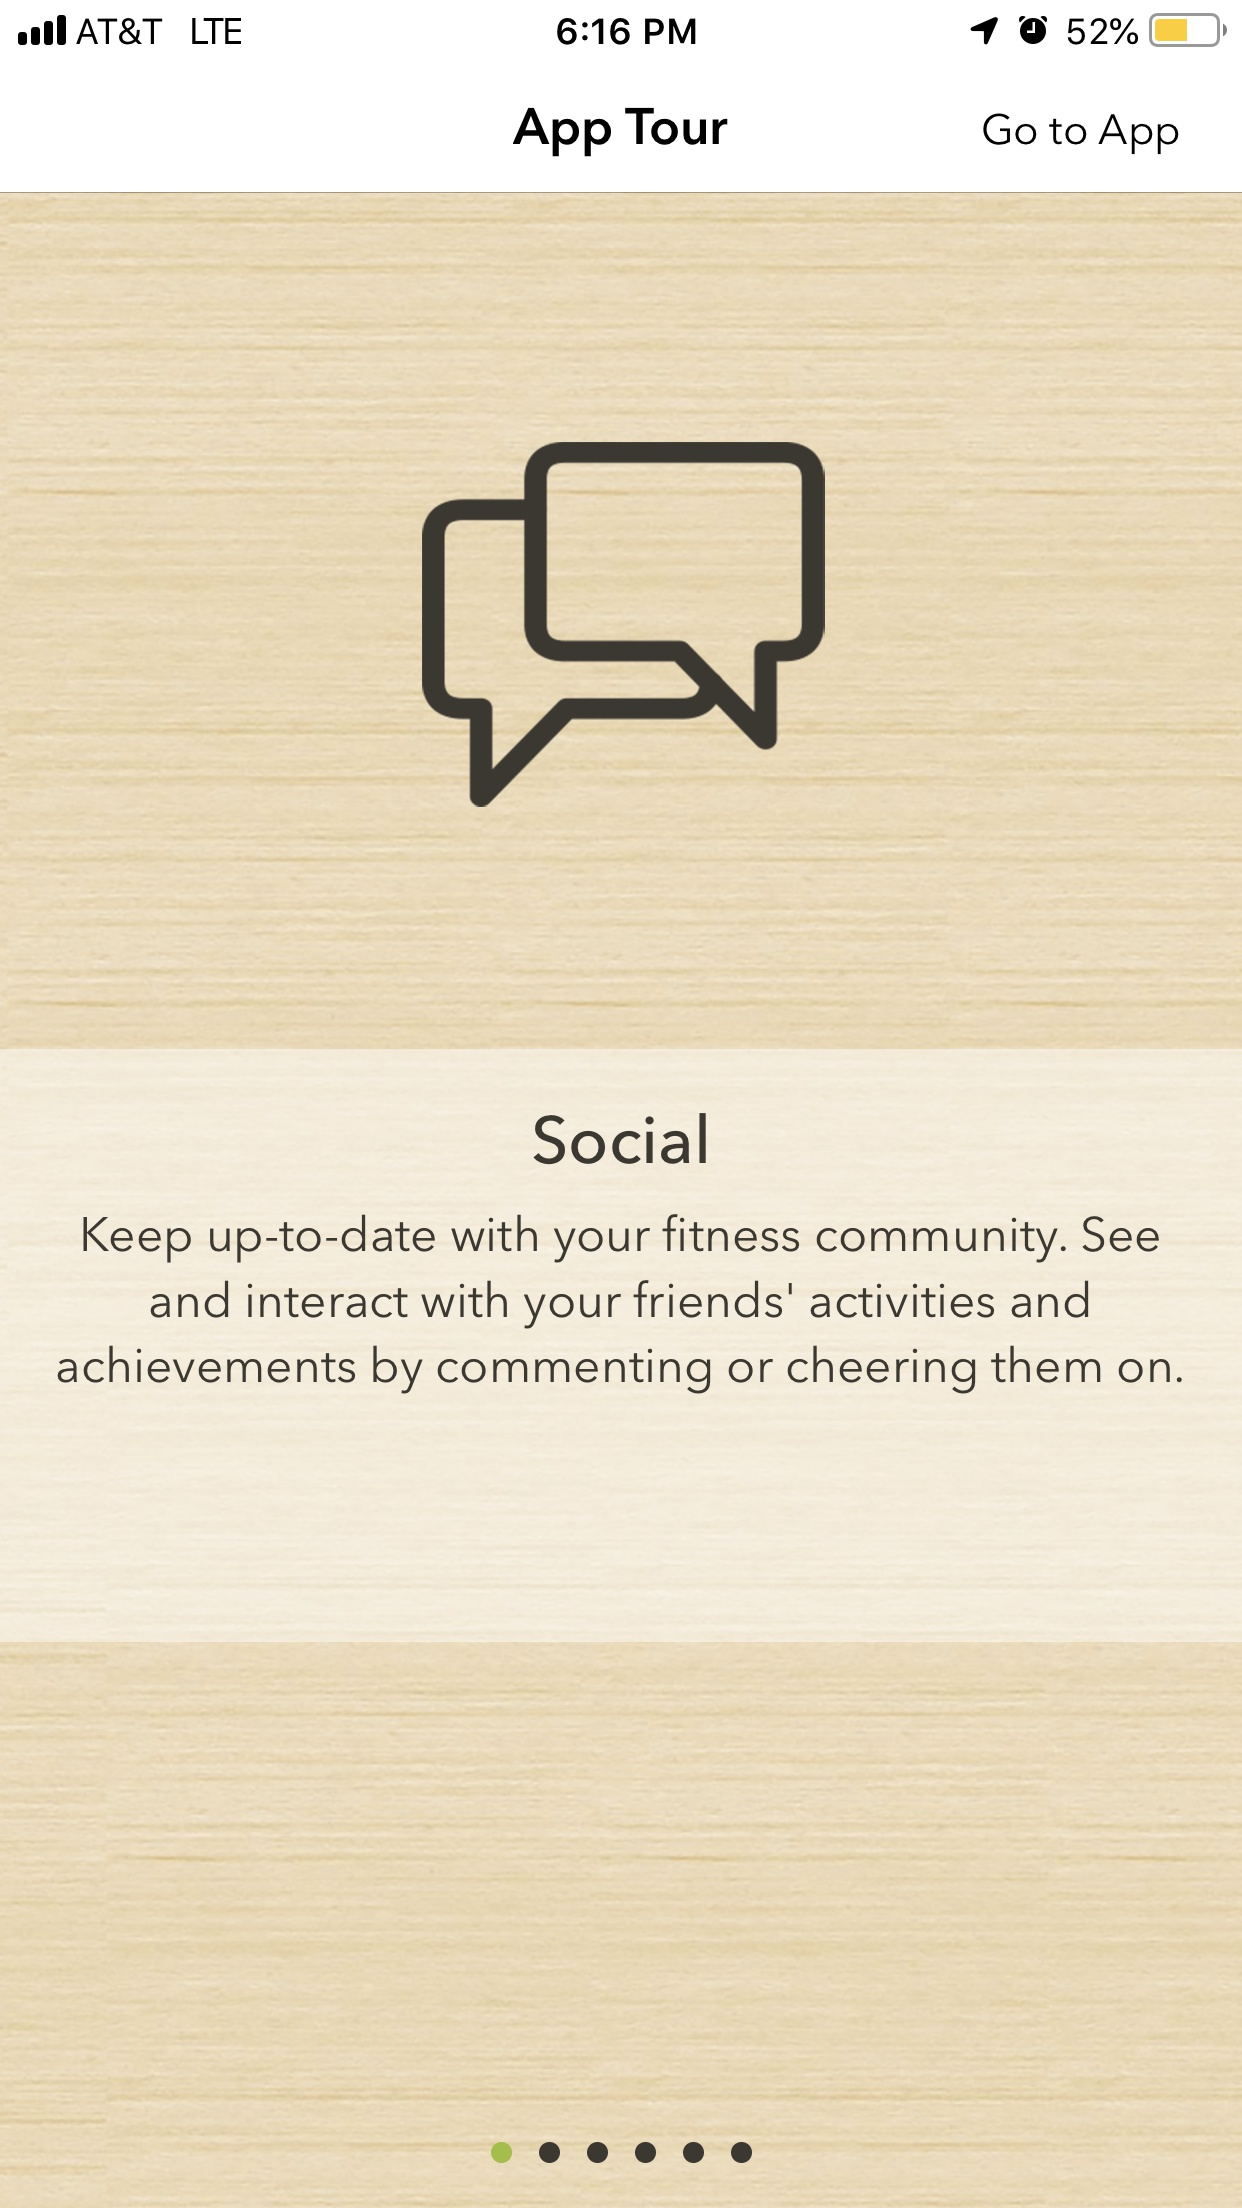Image: (422, 441, 826, 808)
PageIndicator: (491, 2141, 754, 2164)
Text: (58, 1213, 1183, 1395), (513, 108, 729, 158), (532, 1113, 707, 1166), (983, 114, 1178, 156)
UpperTaskBar: (2, 2, 1242, 49)
